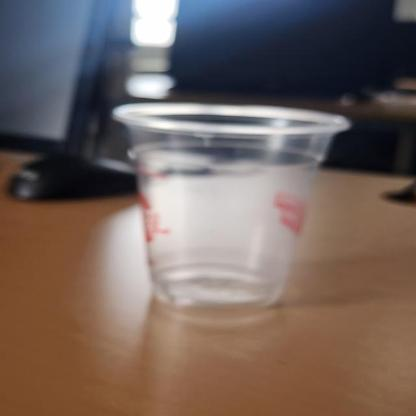Plastic Cup: (110, 101, 354, 324)
